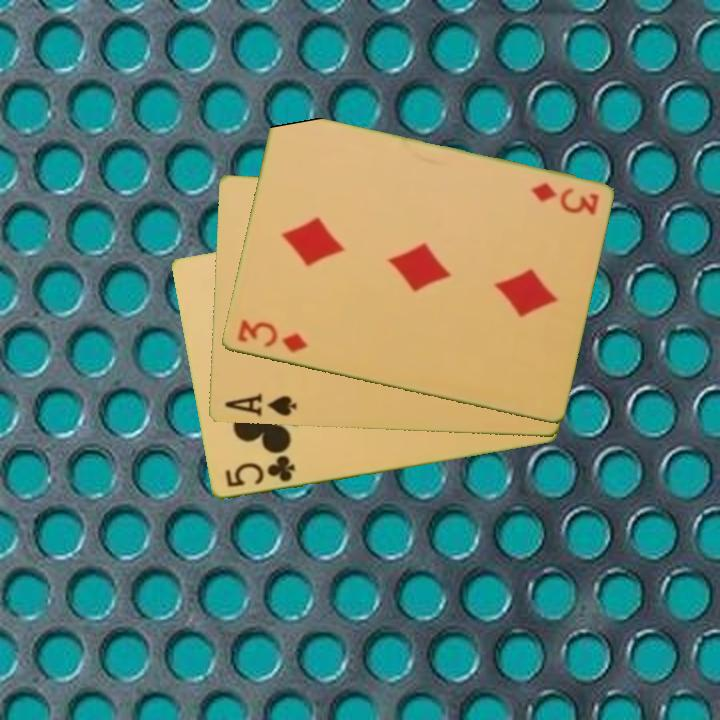3d: (233, 316, 310, 356), (527, 180, 601, 219)
5c: (221, 452, 298, 491)
As: (221, 390, 299, 420)
